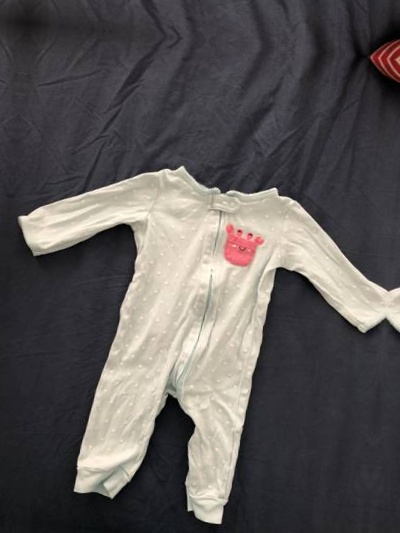Body: (0, 134, 400, 533), (365, 171, 400, 533), (0, 95, 3, 505), (0, 531, 360, 533)
